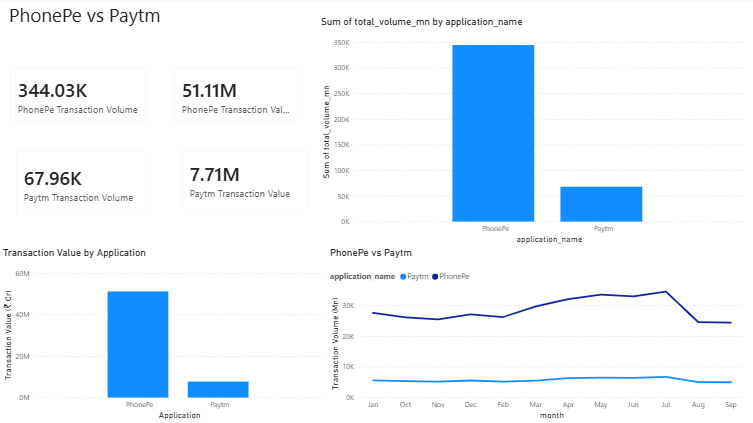

This screenshot's page, from the dashboard's own definition file:
{"tool":"powerbi","page":{"name":"Page 3","canvas":[1280,720],"ordinal":2},"visuals":[{"type":"textbox","box":[10.2,0,279.4,61],"z":0},{"type":"cardVisual","fields":{"Data":["Sum(upi_apps_historical.total_volume_mn)"]},"box":[0,101.6,264.1,125.3],"z":1000},{"type":"cardVisual","fields":{"Data":["Sum(upi_apps_historical.total_volume_mn)"]},"box":[10.2,240.4,254,145.6],"z":2000},{"type":"cardVisual","fields":{"Data":["Sum(upi_apps_historical.total_value_cr)"]},"box":[277.7,101.6,243.8,125.3],"z":3000},{"type":"cardVisual","fields":{"Data":["Sum(upi_apps_historical.total_value_cr)"]},"box":[291.2,240.4,247.2,133.8],"z":4000},{"type":"clusteredColumnChart","fields":{"Category":["upi_apps_historical.application_name"],"Y":["Sum(upi_apps_historical.total_volume_mn)"]},"box":[538.4,30.5,726.3,391.1],"z":5000},{"type":"clusteredColumnChart","title":"Transaction Value by Application","fields":{"Category":["upi_apps_historical.application_name"],"Y":["Sum(upi_apps_historical.total_value_cr)"]},"box":[0,421.6,553.7,298],"z":6000},{"type":"lineChart","title":"PhonePe vs Paytm","fields":{"Category":["upi_apps_historical.month"],"Y":["Sum(upi_apps_historical.total_volume_mn)"],"Series":["upi_apps_historical.application_name"]},"box":[554,422,711,298],"z":7000}]}

Visuals, with their boxes in screenshot pixels (x1, y1, x2, y2), scaled from the page's 1280x720 canvas onto the 753x423 screenshot:
textbox: (6,0,170,36)
cardVisual - Sum(upi_apps_historical.total_volume_mn): (0,60,155,133)
cardVisual - Sum(upi_apps_historical.total_volume_mn): (6,141,155,227)
cardVisual - Sum(upi_apps_historical.total_value_cr): (163,60,307,133)
cardVisual - Sum(upi_apps_historical.total_value_cr): (171,141,317,220)
clusteredColumnChart - upi_apps_historical.application_name x Sum(upi_apps_historical.total_volume_mn): (317,18,744,248)
"Transaction Value by Application" clusteredColumnChart: (0,248,326,422)
"PhonePe vs Paytm" lineChart: (326,248,744,422)
